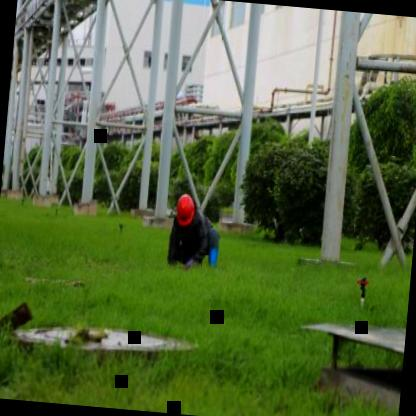helmet: (175, 190, 198, 230)
